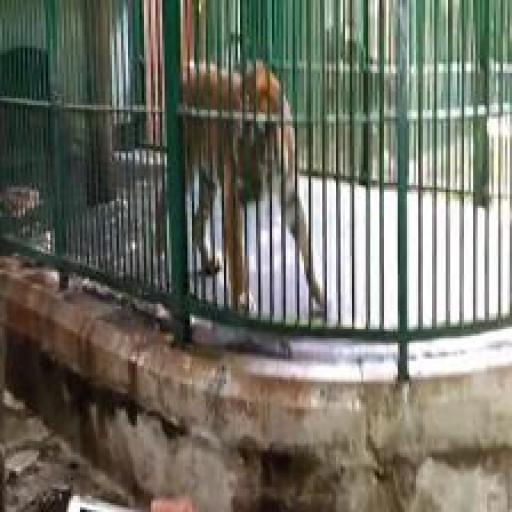Tiger: (151, 55, 331, 327)
